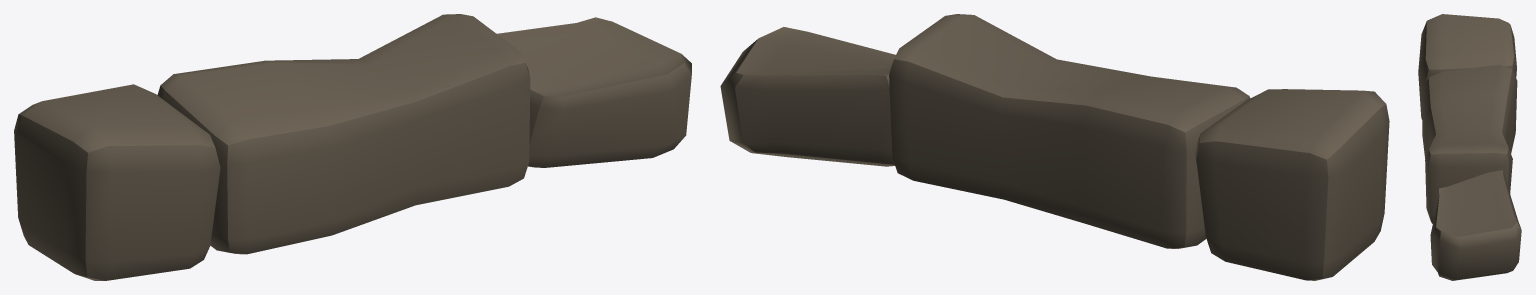
File: broken wall 3.fbx
3 views of the same model, side by side, from view 1: azimuth 30°, elevation 25°; view 2: azimuth 150°, elevation 25°; view 3: azimuth 270°, elevation 25° (orthographic). The views are drawn at different scales.
Visible parts, largest first — view 1: pCube13; view 2: pCube13; view 3: pCube13.
Part boxes in pixels (<box>): pCube13: <box>14,14,691,280</box>; pCube13: <box>720,14,1389,280</box>; pCube13: <box>1418,14,1521,280</box>.
Size of the model in its own units: 250 by 63.71 by 58.78.
